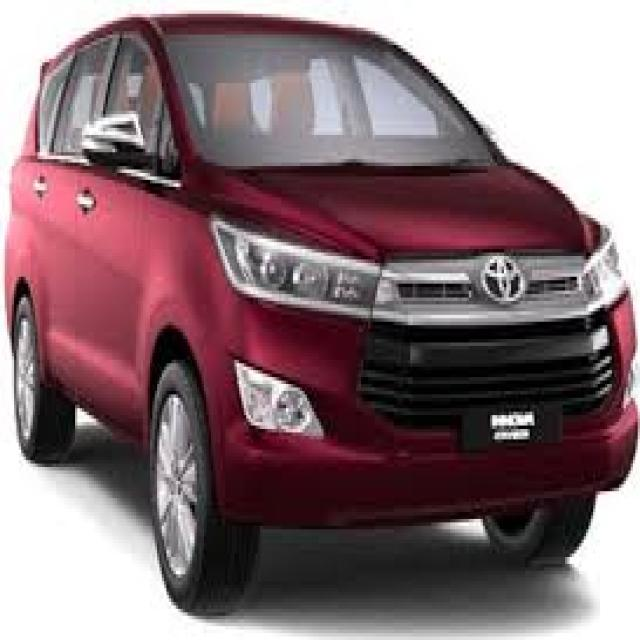light_vehicle: (5, 13, 639, 616)
